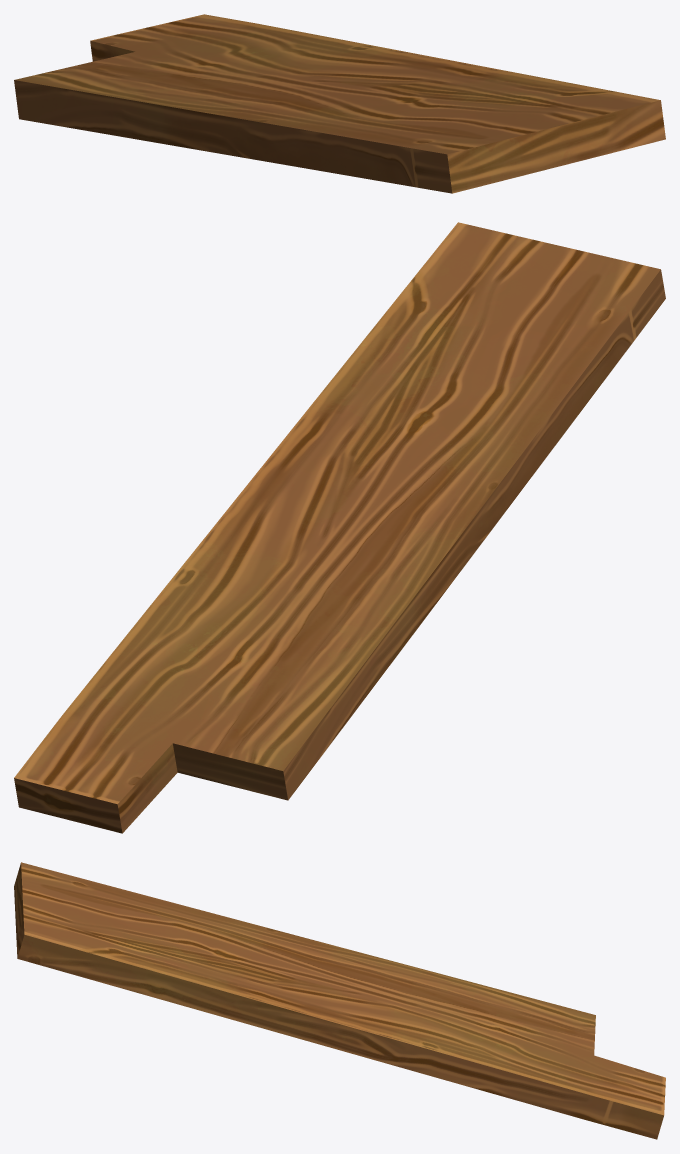
3 renders of one model, top to bottom at view 1: azimuth 30°, elevation 25°; view 2: azimuth 150°, elevation 25°; view 3: azimuth 270°, elevation 25°, orthographic. The views are drawn at different scales.
Parts seen in each view (by area): view 1: Cube.568; view 2: Cube.568; view 3: Cube.568.
Boxes of the visible parts, <box> form: Cube.568: <box>14,14,665,193</box>; Cube.568: <box>14,222,665,833</box>; Cube.568: <box>14,862,665,1139</box>.
Size of the model in its own units: 58.38 by 68.28 by 200.
Materials: 1 (1 with a texture image).
